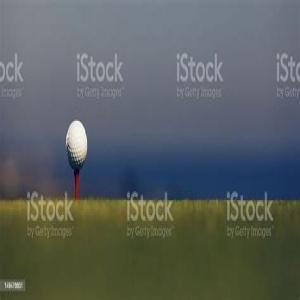Golf: (66, 120, 88, 169)
